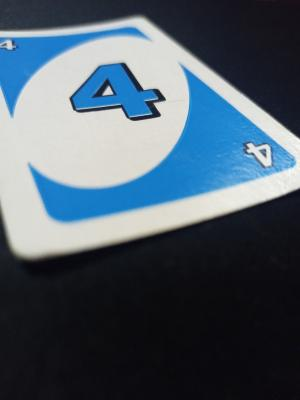blue: (33, 27, 155, 231)
num_4: (236, 135, 282, 175), (0, 38, 23, 56)
